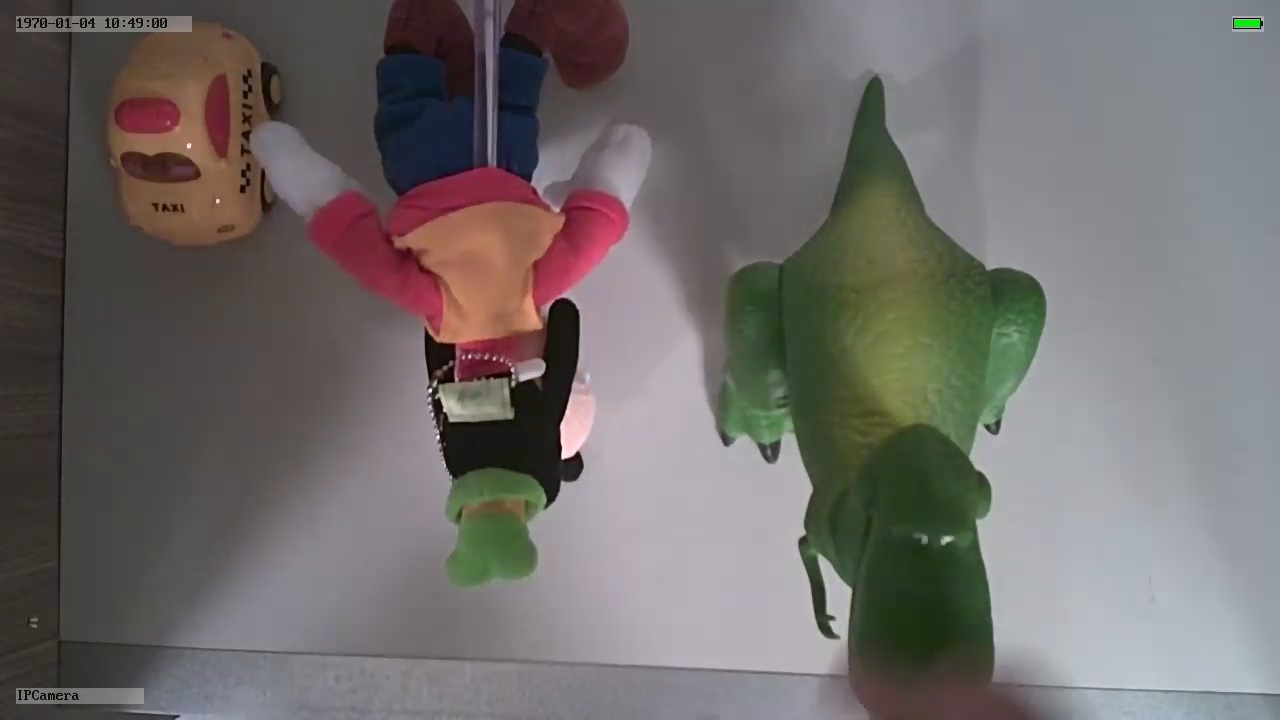car: (103, 23, 284, 246)
goofy: (250, 118, 656, 589)
rex: (718, 162, 1047, 720)
